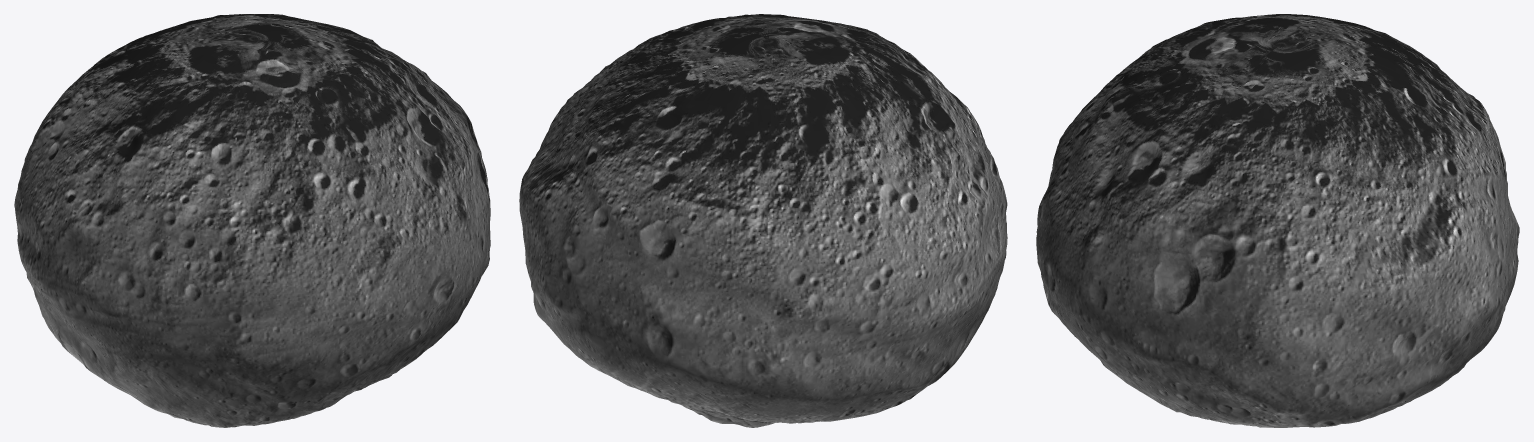
Rendered from vesta.glb.
The picture shows the model from 3 angles, left to right: view 1: azimuth 30°, elevation 25°; view 2: azimuth 150°, elevation 25°; view 3: azimuth 270°, elevation 25°; orthographic projection. The views are drawn at different scales.
Parts seen in each view (by area): view 1: Vesta; view 2: Vesta; view 3: Vesta.
Part boxes in pixels (x1,y1,x2,y2): Vesta: (14, 14, 490, 427); Vesta: (519, 14, 1007, 427); Vesta: (1036, 14, 1519, 427).
Bounding box in the file's own units: 5733 × 4628 × 5562.
Materials: 1 (1 with a texture image).
